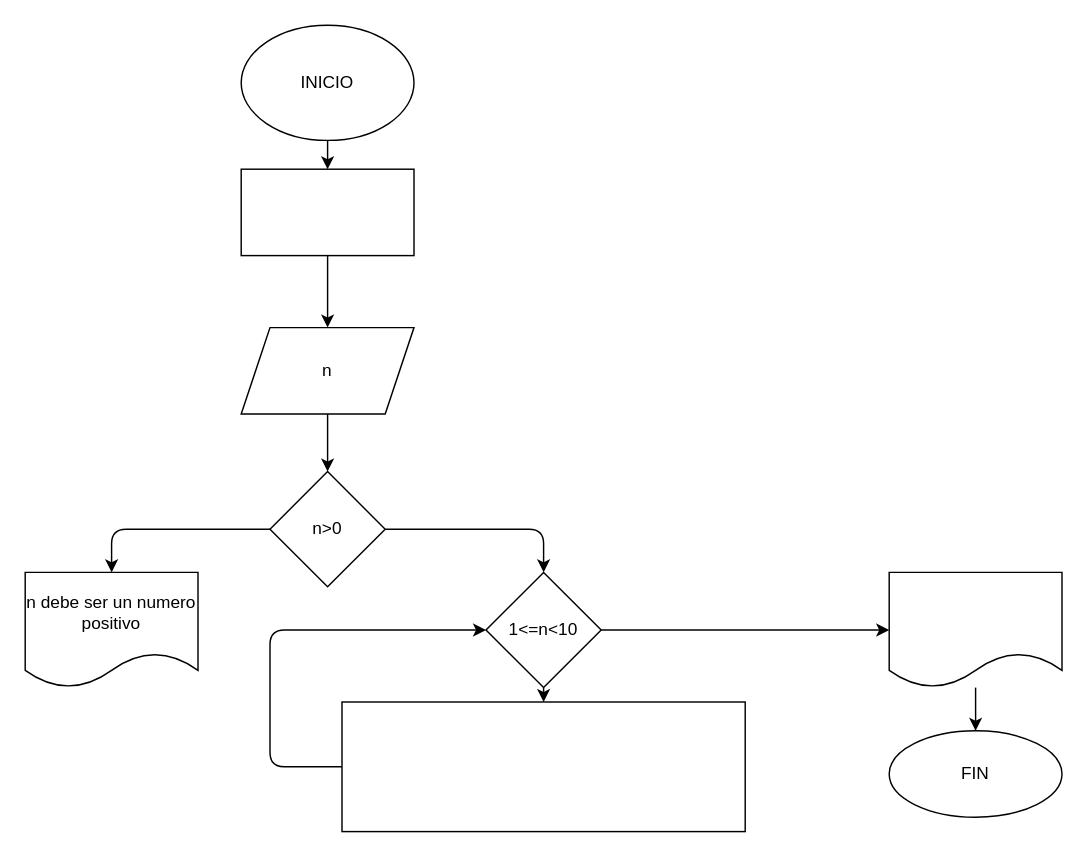
The diagram is 1087 pixels wide and 857 high, and some of its shapes have lost their labels. Each missing label, with the box of its shape:
la suma de tus digitos es = suma de digitos: (888, 571, 1062, 688)
n=n//10 i=n%10 suma de digitos=0 suma de digitos =suma de digitos + n: (341, 701, 745, 832)
suma de digitos=0: (240, 168, 414, 256)
